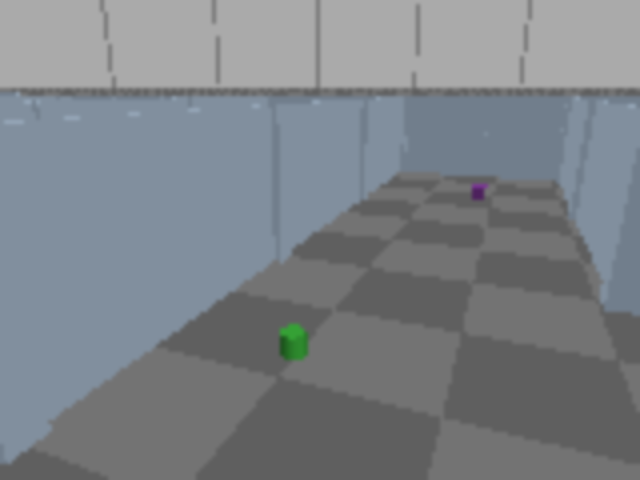puck: (281, 326, 306, 361)
